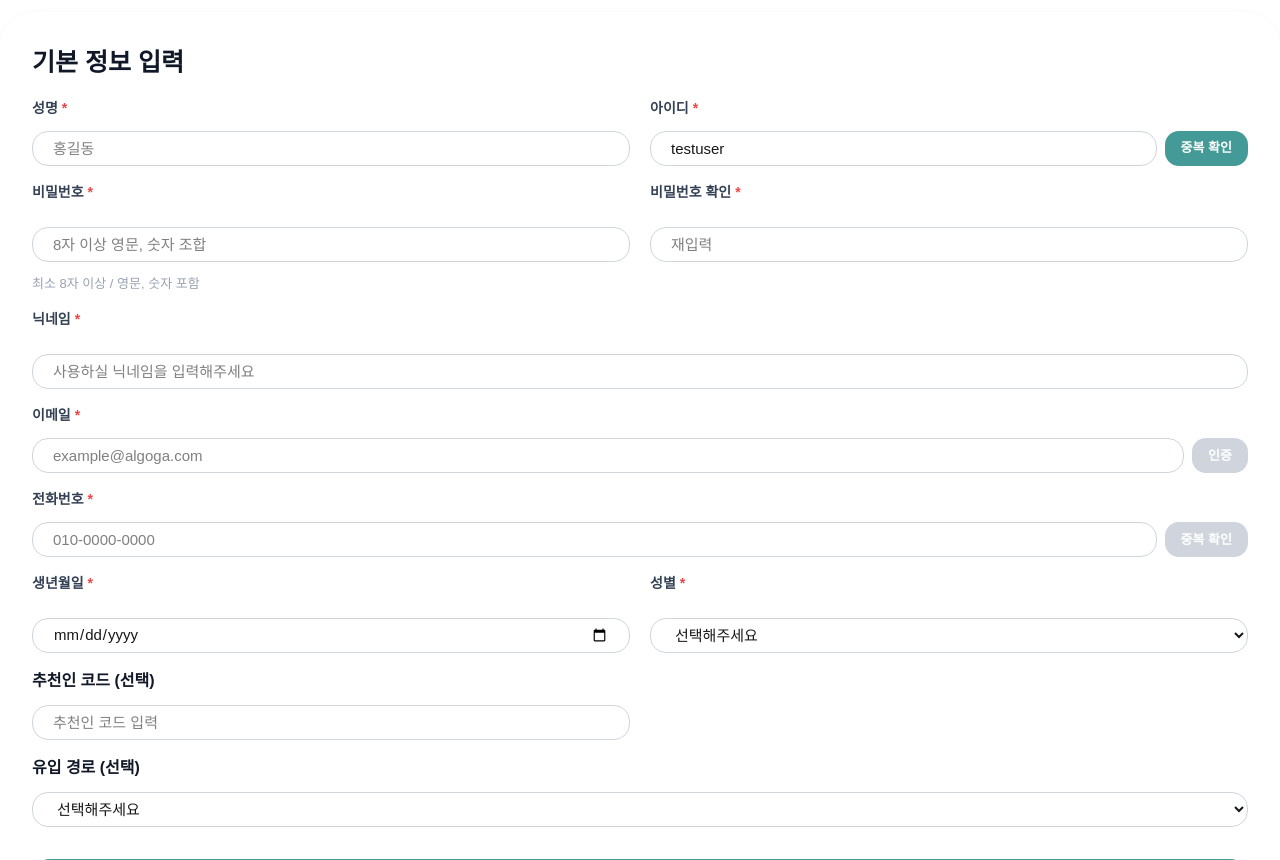
Test case: RegisterInfoForm 컴포넌트 테스트 › 아이디 중복 확인 요청이 실패하면 실패 메시지가 보인다
The image size is (1280, 860).
Click the button with aria-label "중복 확인: 사용자 이름 검사" at (1206, 148), box top-left (1164, 130), bottom-right (1248, 166)
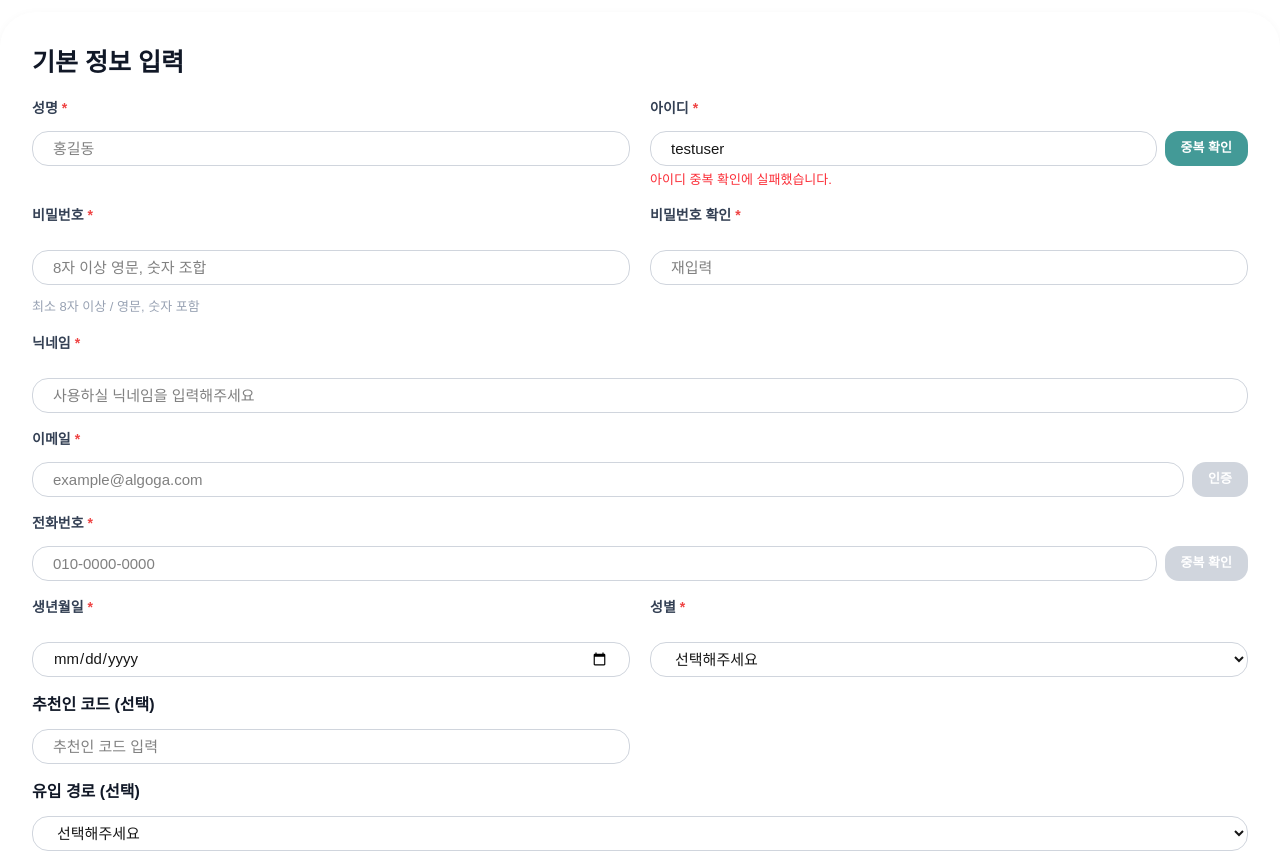
Expected: the text "아이디 중복 확인에 실패했습니다." is shown, top-left (650, 172), bottom-right (832, 186)
